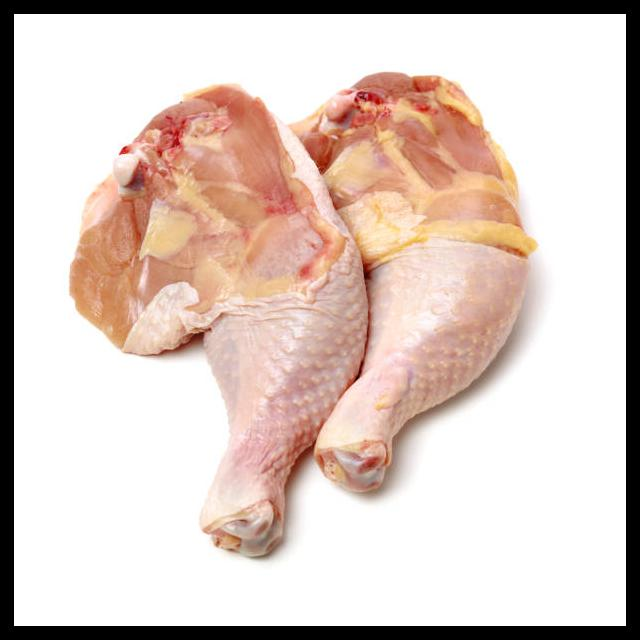chicken: (67, 67, 541, 559)
